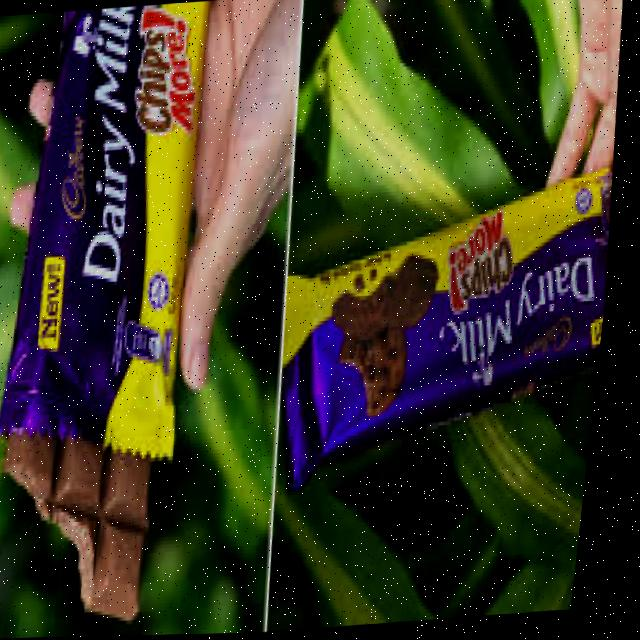cadbury: (0, 1, 239, 631), (285, 162, 625, 479)
